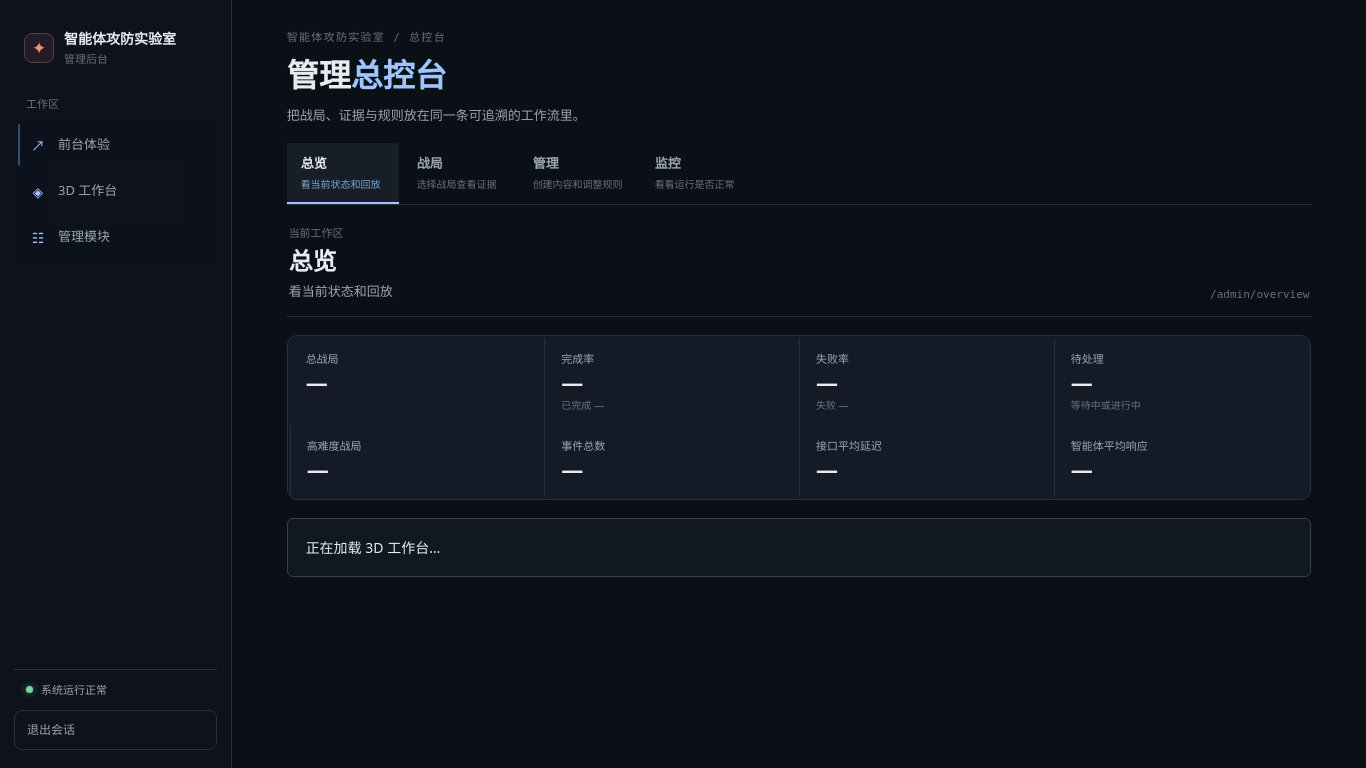
Test: AdminApp › exposes workspace tabs and keeps the selected workspace active
Click the tab "战局 选择战局查看证据".
click(459, 173)  # box [403,143,515,204]
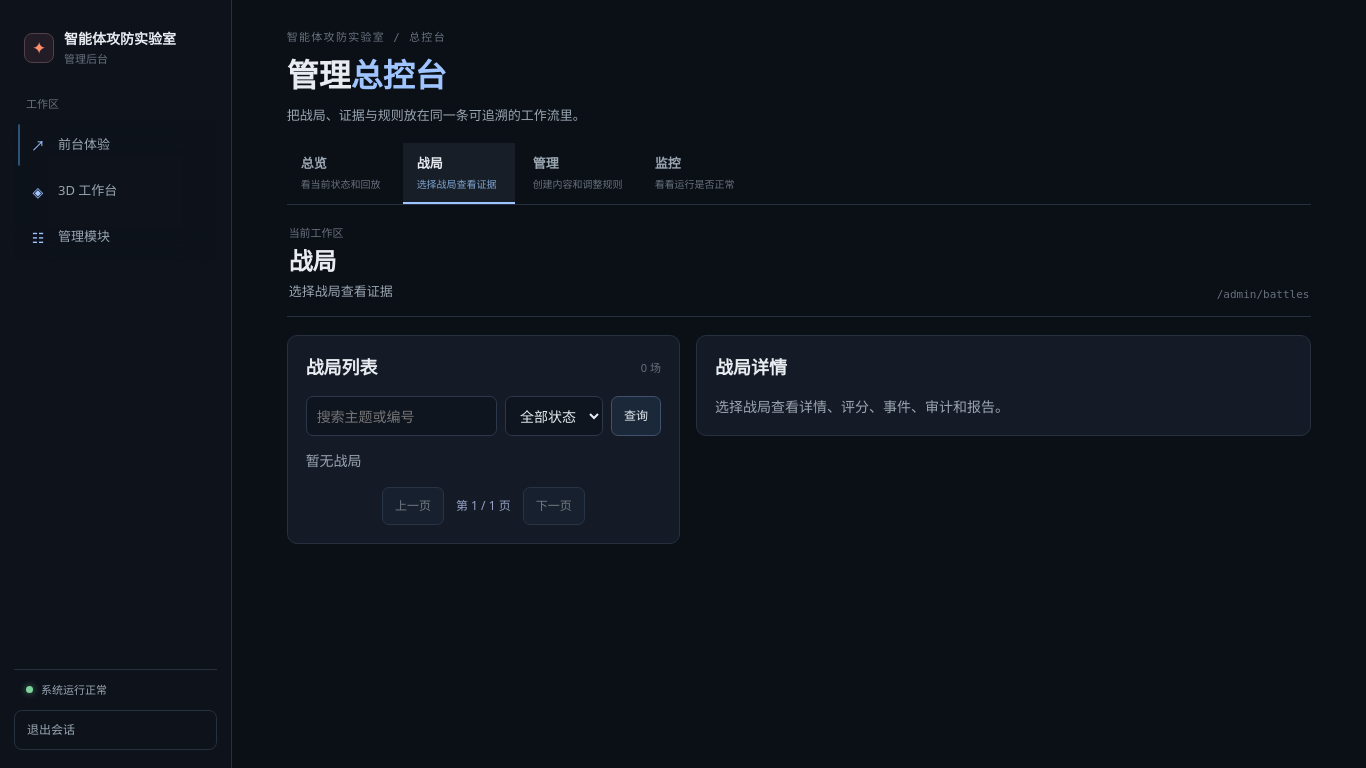
Now the panel named "战局工作区" is shown, box [287,335,1311,544]
